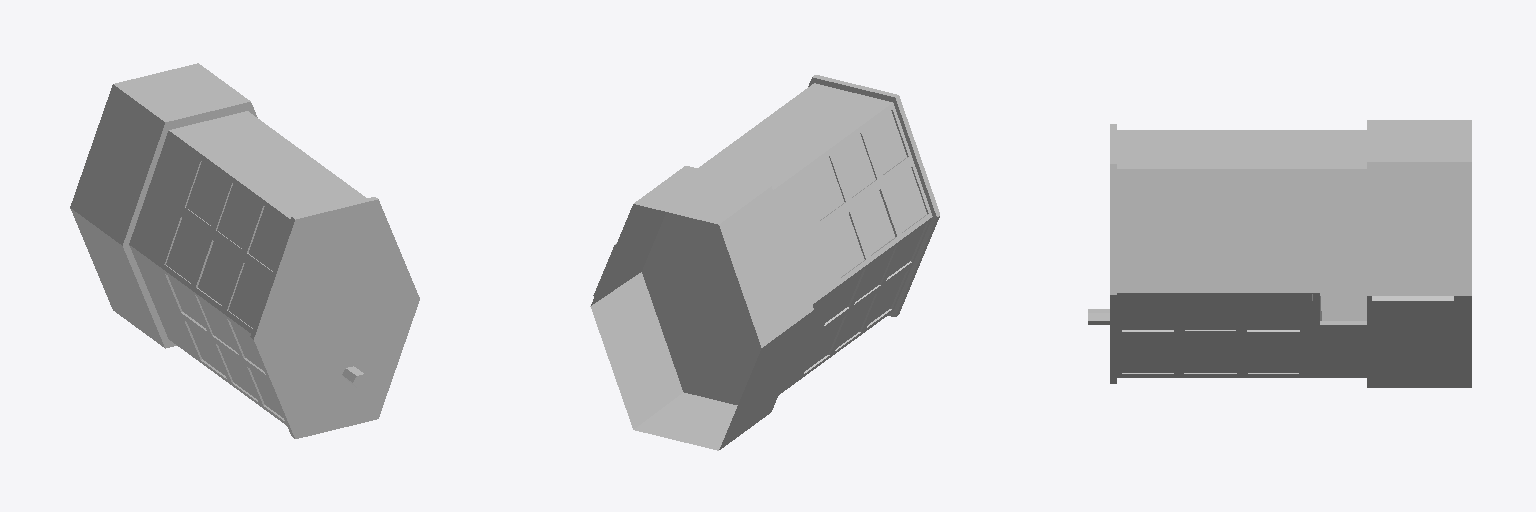
File: Building2.obj
3 renders of one model, left to right at view 1: azimuth 30°, elevation 25°; view 2: azimuth 150°, elevation 25°; view 3: azimuth 270°, elevation 25°, orthographic.
Parts seen in each view (by area): view 1: Cylinder; view 2: Cylinder; view 3: Cylinder.
Part boxes in pixels (x1,y1,x2,y2): Cylinder: (70,63,419,438); Cylinder: (590,75,939,450); Cylinder: (1088,120,1471,387).
Bounding box in the file's own units: 8.46 × 10.18 × 15.68.